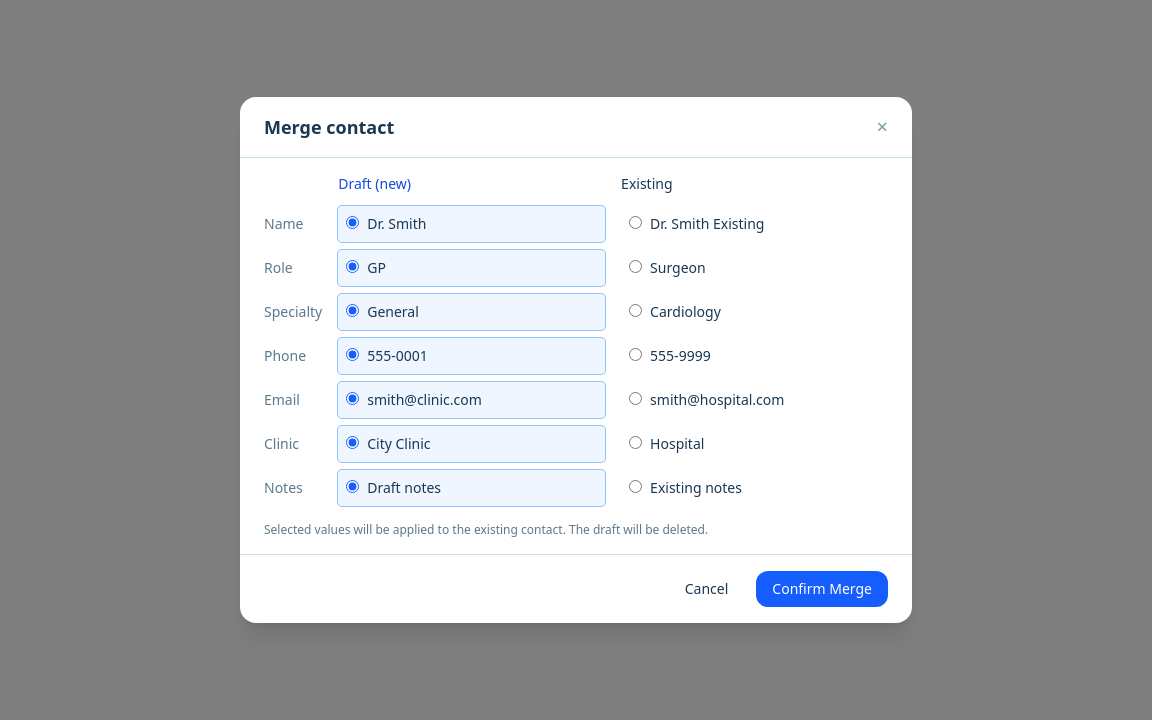
Test case: MergeEntityDialog › shows error and re-enables button when merge fails
Click the button "Confirm Merge". click: (822, 589)
box: [756,571,888,607]
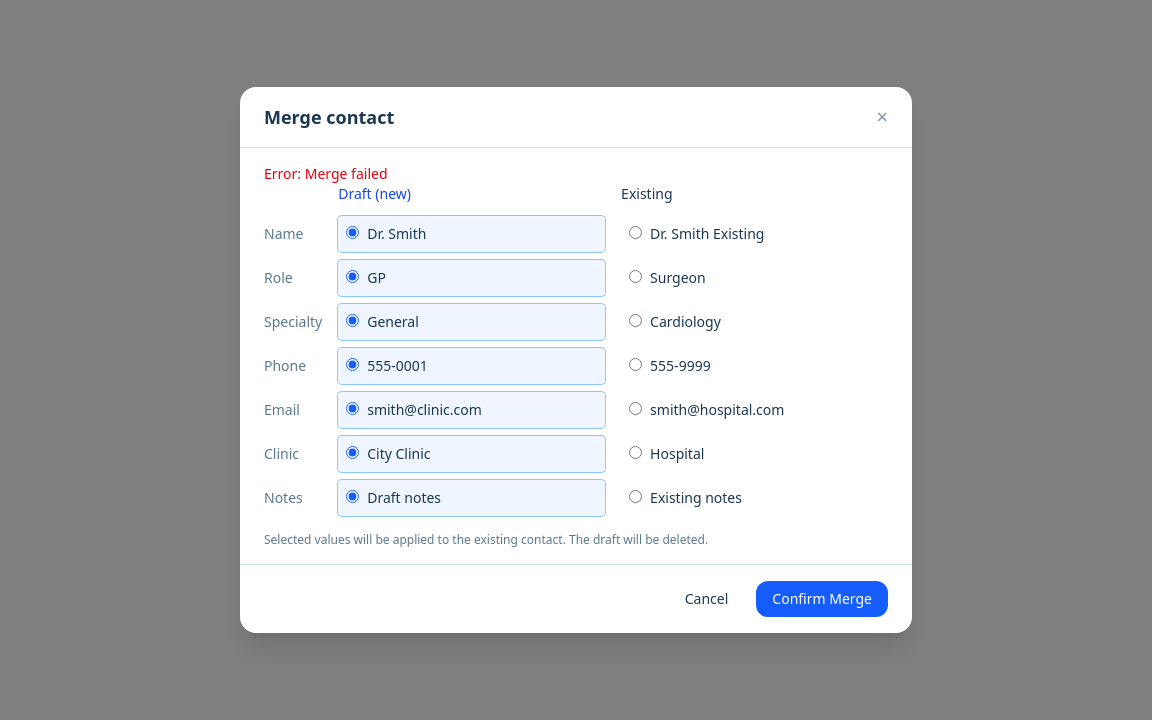
Expected: the button "Confirm Merge" is enabled, [756,581,888,617]
Expected: the text "Error: Merge failed" is shown, [264,164,388,183]
